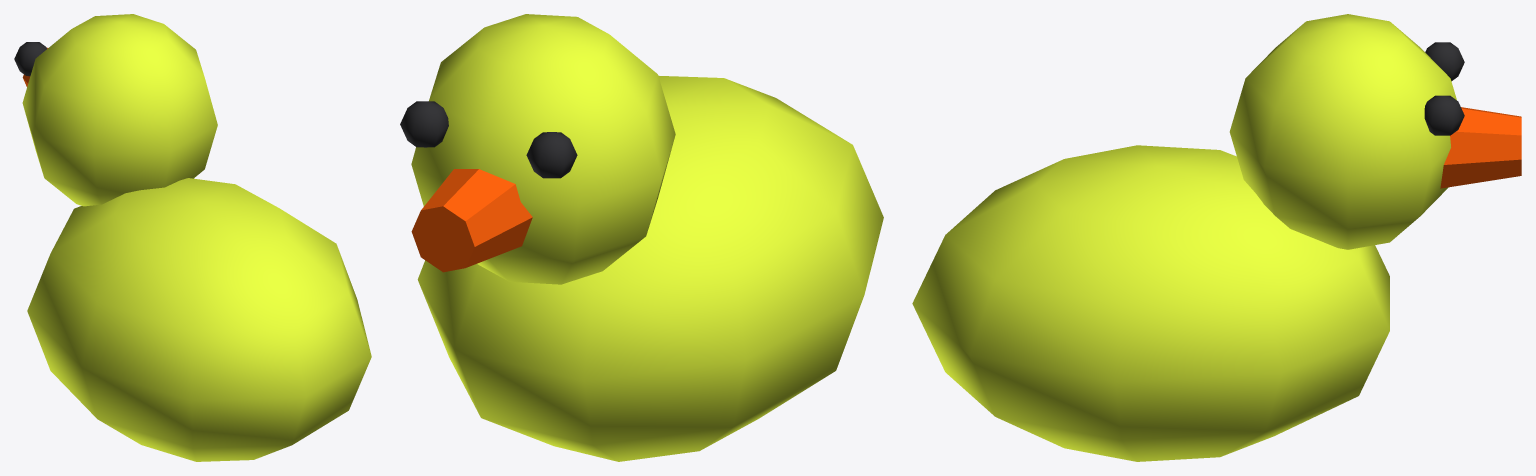
The model's file is rubber_duck.fbx.
3 views of the same model, side by side, from view 1: azimuth 30°, elevation 25°; view 2: azimuth 150°, elevation 25°; view 3: azimuth 270°, elevation 25° (orthographic). The views are drawn at different scales.
Visible parts, largest first — view 1: Prop; view 2: Prop; view 3: Prop.
Boxes of the visible parts, x1,y1,x2,y2 form: Prop: (14, 14, 371, 461); Prop: (400, 14, 883, 461); Prop: (912, 14, 1521, 461).
Bounding box in the file's own units: 0.2364 × 0.386 × 0.291.
